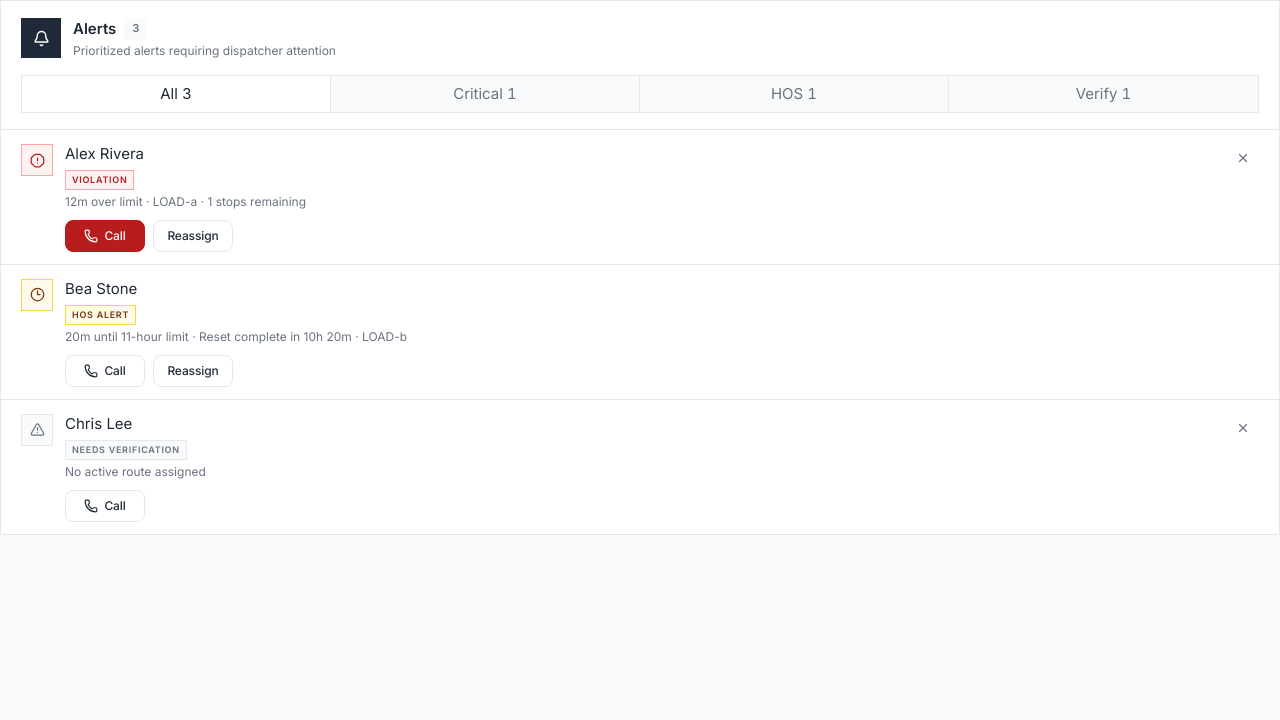
Test: NotificationCenter › presents prioritized alerts with category filters
Check: the heading "Alerts" is shown, box [73,17,116,41]
Check: the text "Violation" is shown, box [65,170,134,190]
Click the button "HOS 1".
click(794, 94)  # box [640,76,949,112]
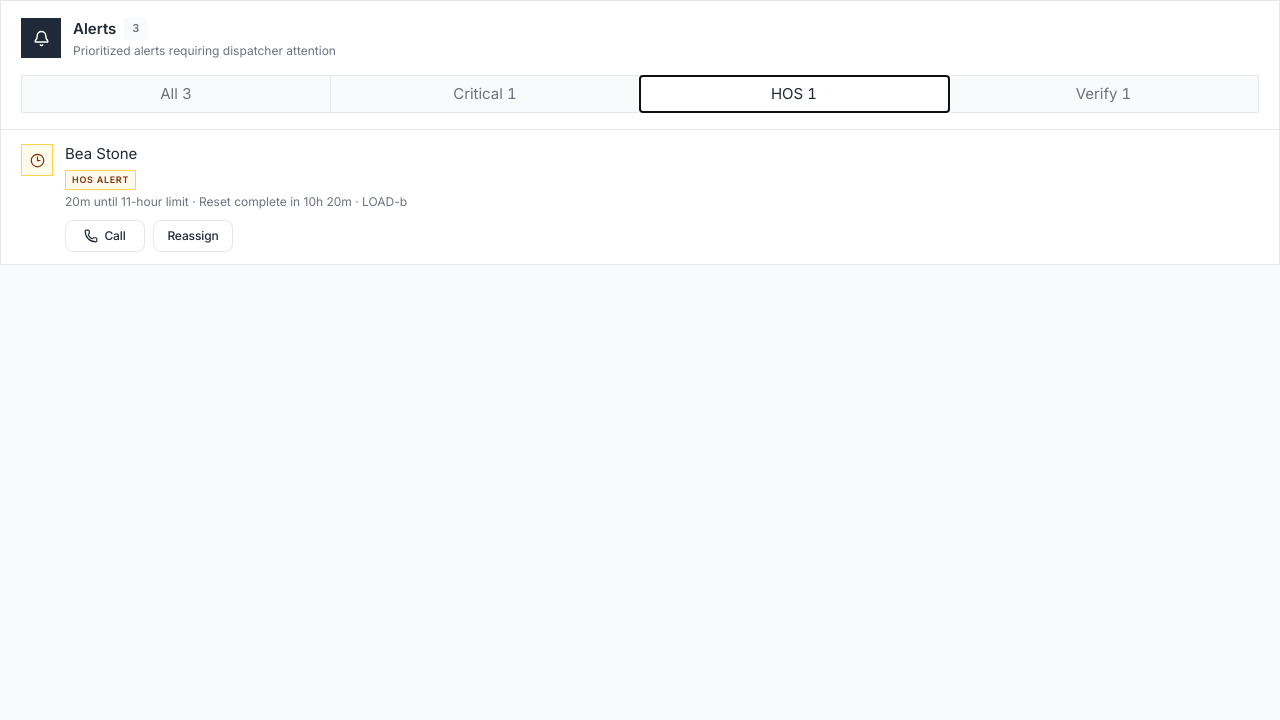
Check: the text "HOS alert" is shown, box [65,170,136,190]
Check: the text "Violation" is gone
Check: the text "Needs verification" is gone
